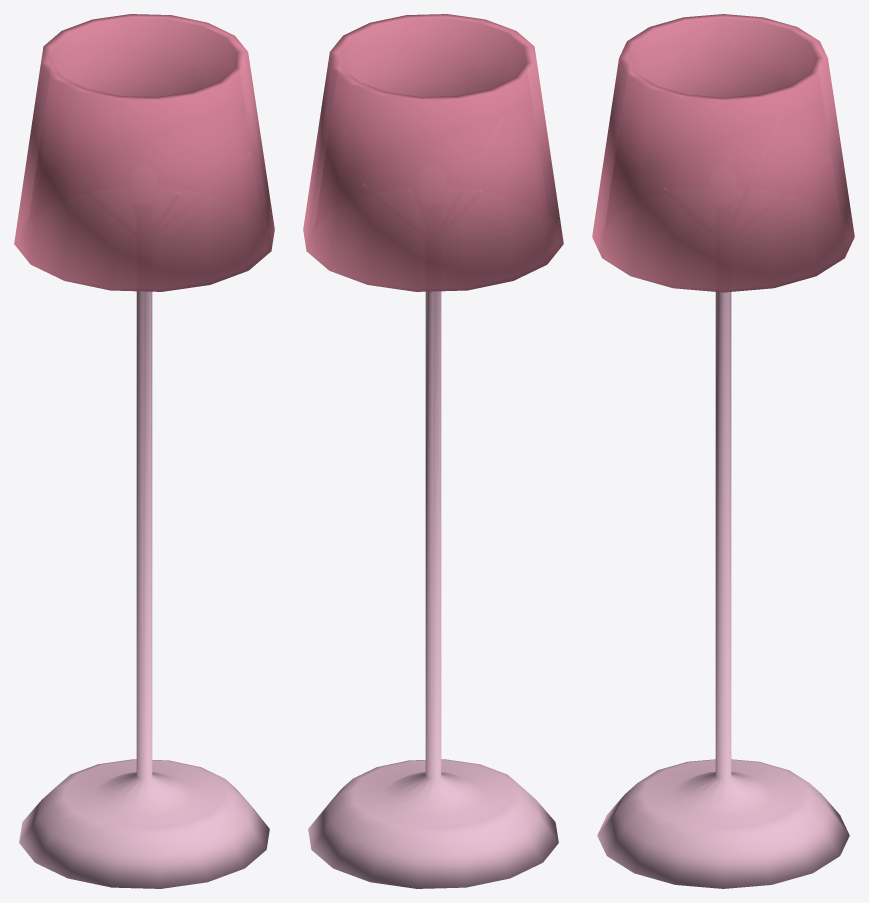
File: pink tall lamp.fbx
The picture shows the model from 3 angles, left to right: view 1: azimuth 30°, elevation 25°; view 2: azimuth 150°, elevation 25°; view 3: azimuth 270°, elevation 25°; orthographic projection.
Parts seen in each view (by area): view 1: Cylinder; view 2: Cylinder; view 3: Cylinder.
Boxes of the visible parts, x1,y1,x2,y2 form: Cylinder: [14, 14, 274, 888]; Cylinder: [303, 14, 563, 888]; Cylinder: [592, 14, 854, 888].
Size of the model in its own units: 59.31 by 194 by 59.31.
